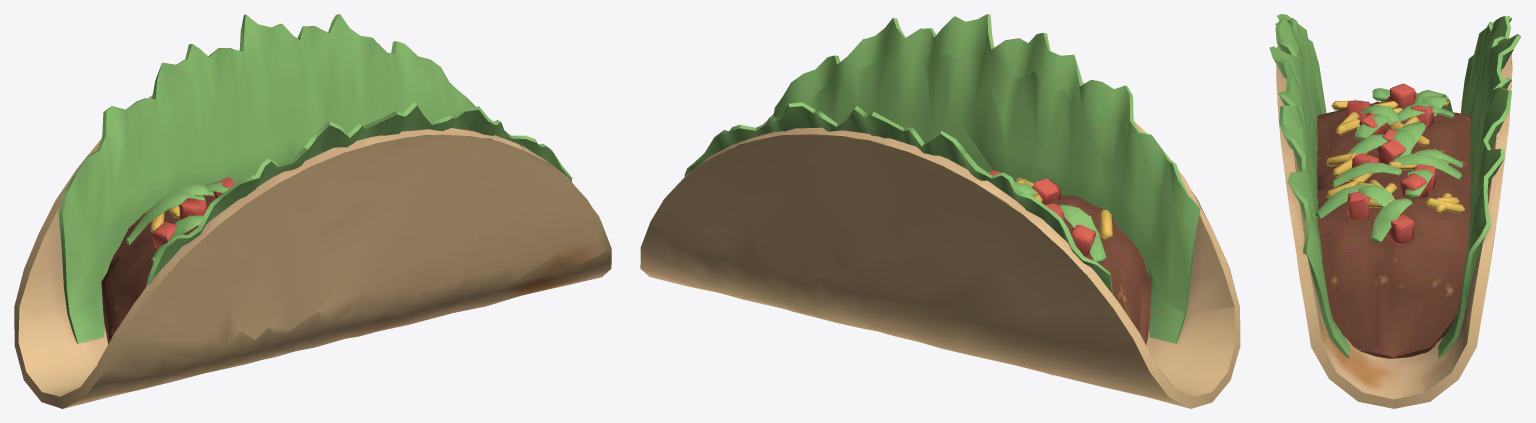
Rendered from calavera.glb.
3 renders of one model, left to right at view 1: azimuth 30°, elevation 25°; view 2: azimuth 150°, elevation 25°; view 3: azimuth 270°, elevation 25°, orthographic. The views are drawn at different scales.
Visible parts, largest first — view 1: taco_body; view 2: taco_body; view 3: taco_body.
Part boxes in pixels (box(x1,y1,x2,y2)): taco_body: box(14, 14, 611, 408); taco_body: box(640, 14, 1240, 408); taco_body: box(1269, 14, 1521, 408).
Size of the model in its own units: 0.1699 by 0.0819 by 0.0738.
1 material, 1 textured.
